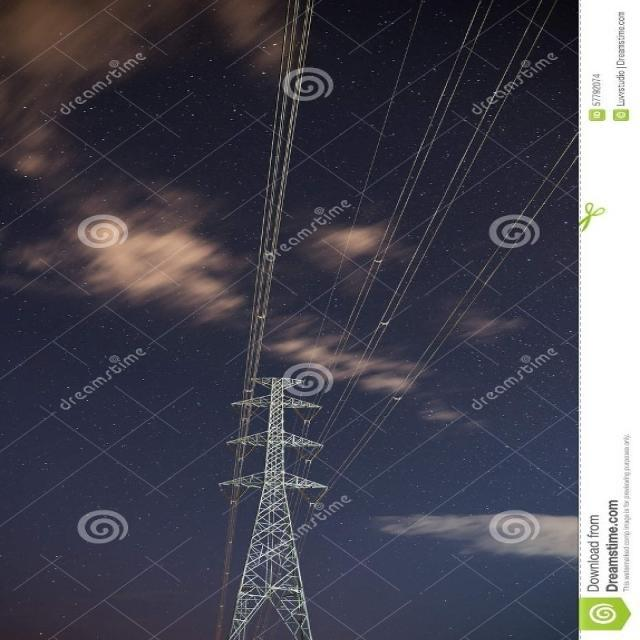non-critical vegetation: (213, 355, 348, 631)
